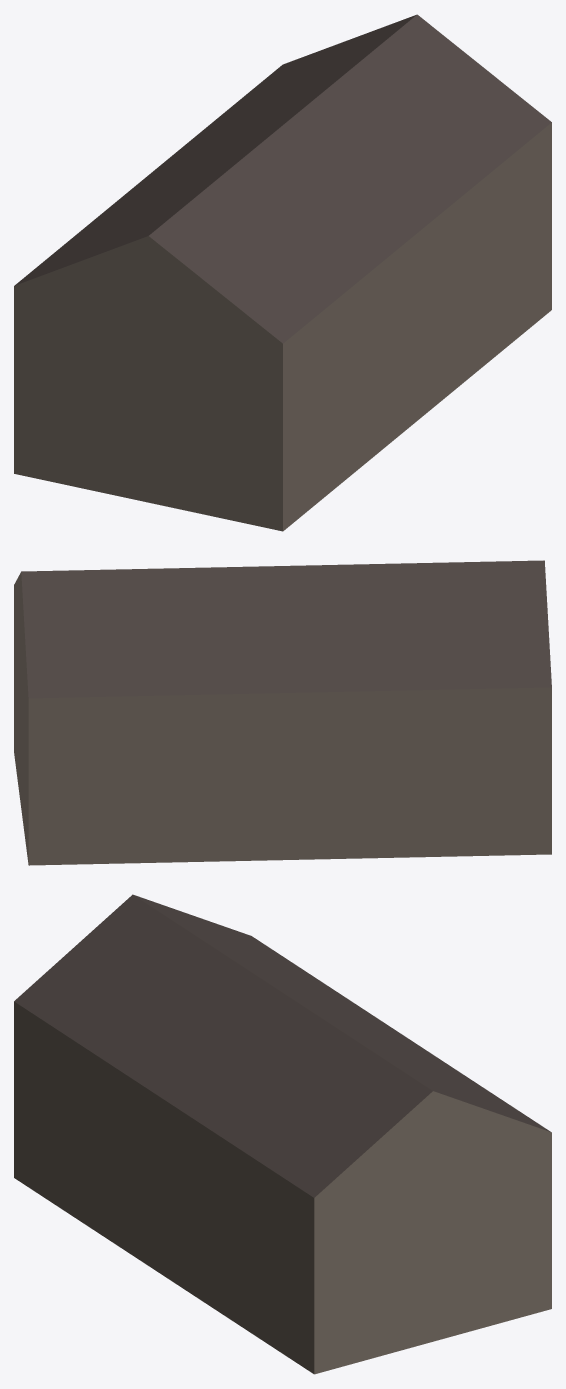
3 views of the same model, one above another, from view 1: azimuth 30°, elevation 25°; view 2: azimuth 150°, elevation 25°; view 3: azimuth 270°, elevation 25° (orthographic). The views are drawn at different scales.
Parts seen in each view (by area): view 1: HP-w1170499698; view 2: HP-w1170499698; view 3: HP-w1170499698.
Part boxes in pixels (left/top/right/bottom): HP-w1170499698: left=14, top=14, right=551, bottom=531; HP-w1170499698: left=14, top=560, right=551, bottom=865; HP-w1170499698: left=14, top=894, right=551, bottom=1374.
Size of the model in its own units: 28.66 by 12.79 by 24.87.
